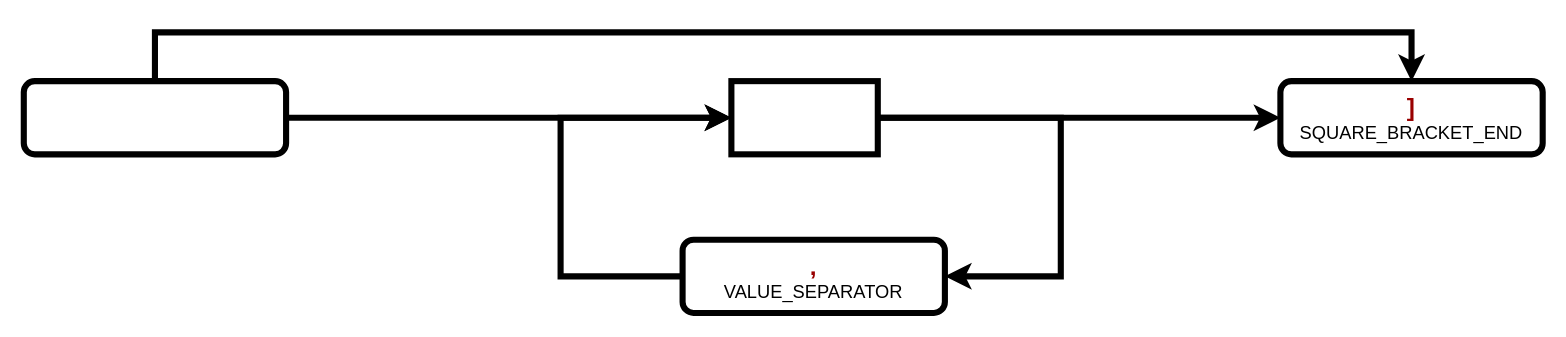
The diagram is 1566 pixels wide and 337 high, and some of its shapes have lost their labels. The shapes that lost their labels are listed below. From the top down, each one's centre as x and y in pixels, then its label:
At (154,117): "[ SQUARE_BRACKET_BEGIN".
At (804,117): "value".
